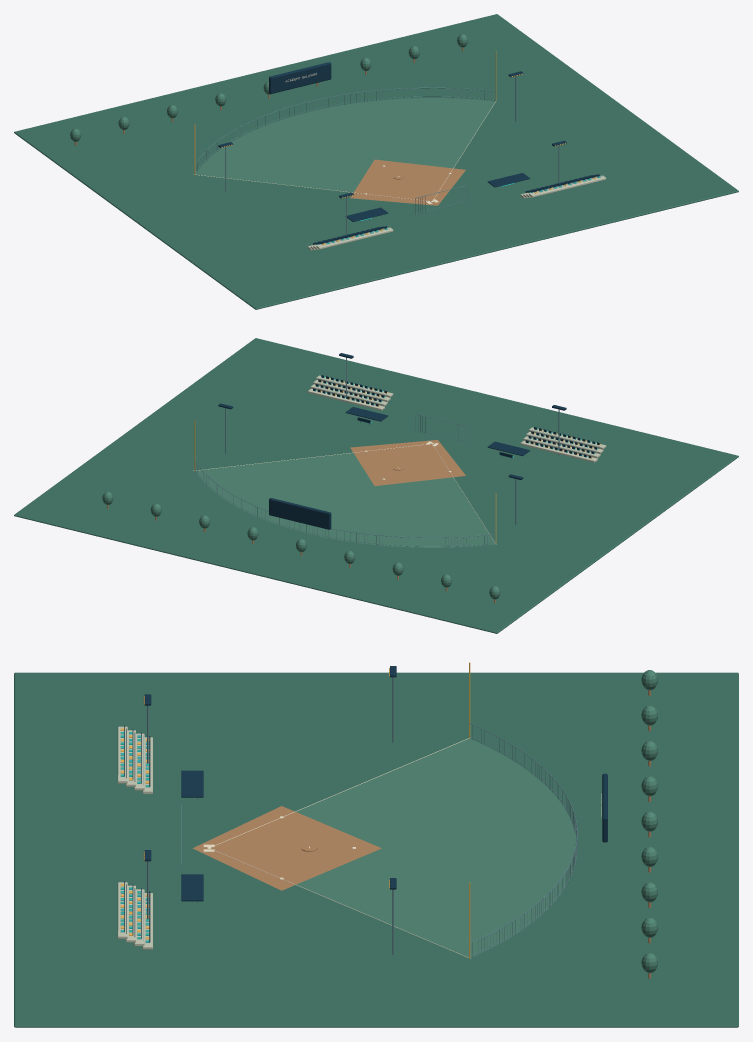
File: baseball-stadium.glb
3 views of the same model, one above another, from view 1: azimuth 30°, elevation 25°; view 2: azimuth 150°, elevation 25°; view 3: azimuth 270°, elevation 25° (orthographic). The views are drawn at different scales.
Parts seen in each view (by area): view 1: Venue; view 2: Venue; view 3: Venue.
Boxes of the visible parts, x1,y1,x2,y2 form: Venue: (14, 14, 738, 309); Venue: (14, 338, 738, 633); Venue: (14, 662, 738, 1027).
Bounding box in the file's own units: 150 × 15.55 × 130.
